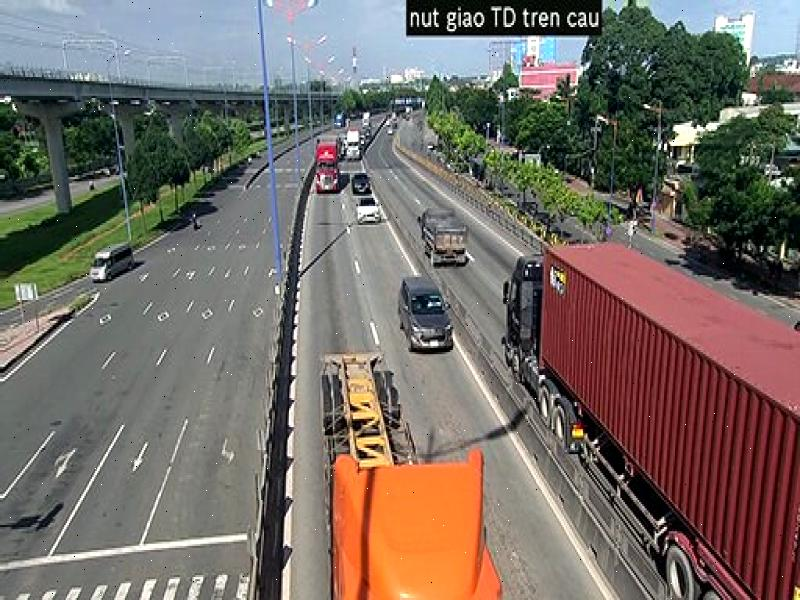truck: (500, 233, 800, 600)
